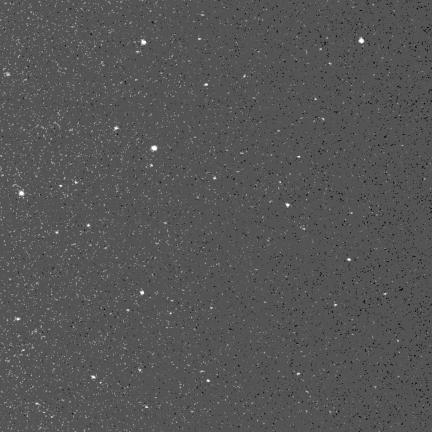blob: (359, 37, 364, 43), (141, 39, 146, 45), (19, 191, 24, 196), (152, 146, 157, 151), (114, 127, 120, 131), (347, 258, 352, 262), (140, 291, 144, 295), (207, 379, 211, 383), (87, 224, 91, 228), (286, 203, 290, 207), (59, 185, 63, 188), (204, 83, 208, 86), (214, 177, 217, 180)
